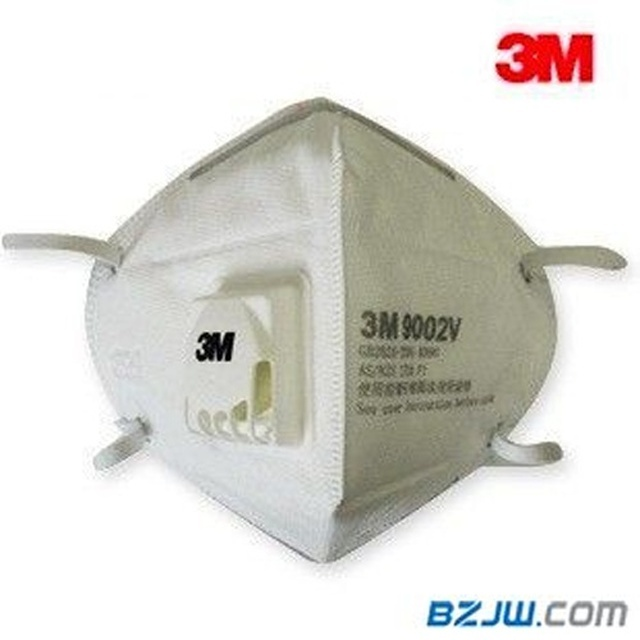mask: (1, 93, 613, 566)
